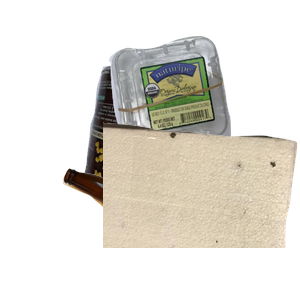glass: (60, 166, 241, 300)
metal: (78, 63, 266, 243)
plastic: (106, 34, 300, 183)
trash: (103, 120, 300, 300)
